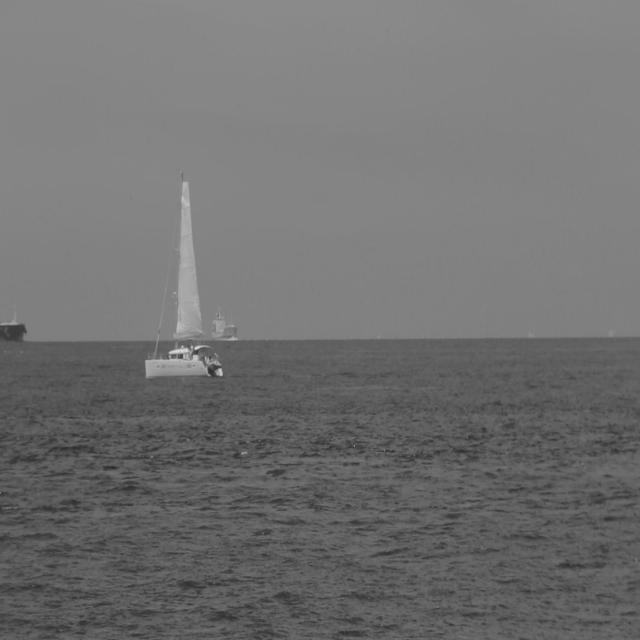ship: (148, 174, 228, 376), (1, 314, 24, 342), (212, 312, 235, 338)
